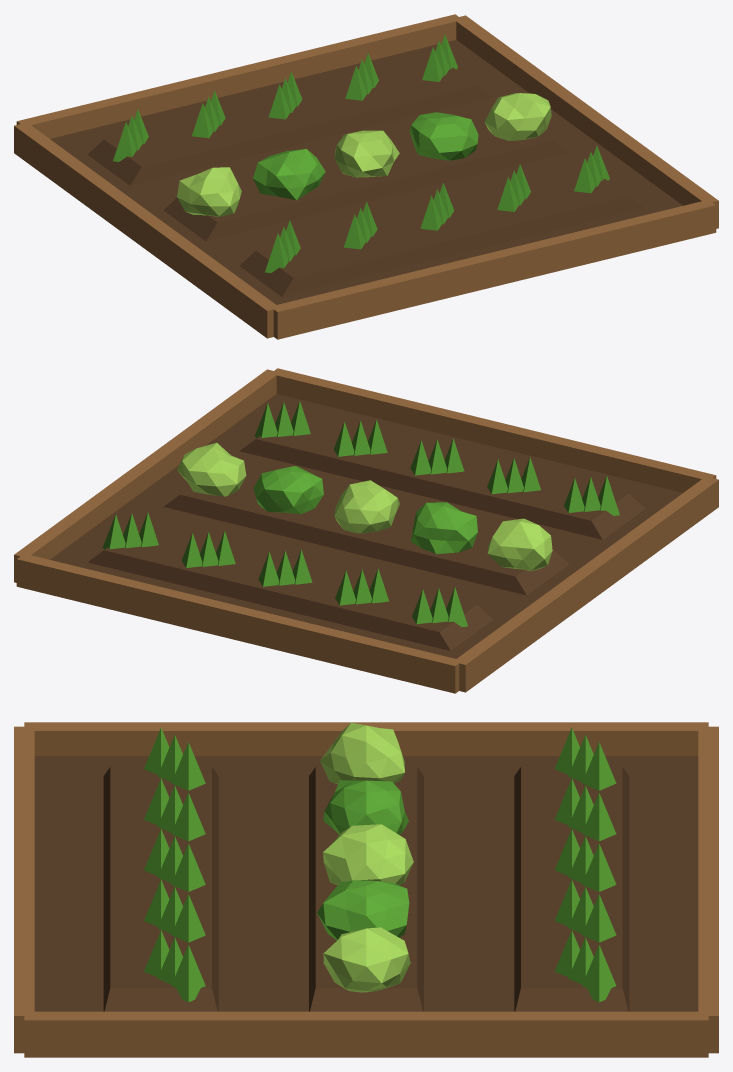
Rendered from garden_plot_1.glb.
3 views of the same model, one above another, from view 1: azimuth 30°, elevation 25°; view 2: azimuth 150°, elevation 25°; view 3: azimuth 270°, elevation 25° (orthographic). The views are drawn at different scales.
Parts seen in each view (by area): view 1: garden_plot_1; view 2: garden_plot_1; view 3: garden_plot_1.
Boxes of the visible parts, bbox=[...] form: garden_plot_1: bbox=[14, 14, 718, 339]; garden_plot_1: bbox=[14, 368, 718, 693]; garden_plot_1: bbox=[14, 722, 718, 1057].
Size of what is drawn, in the model's own units: 4.12 by 0.5282 by 4.12.
